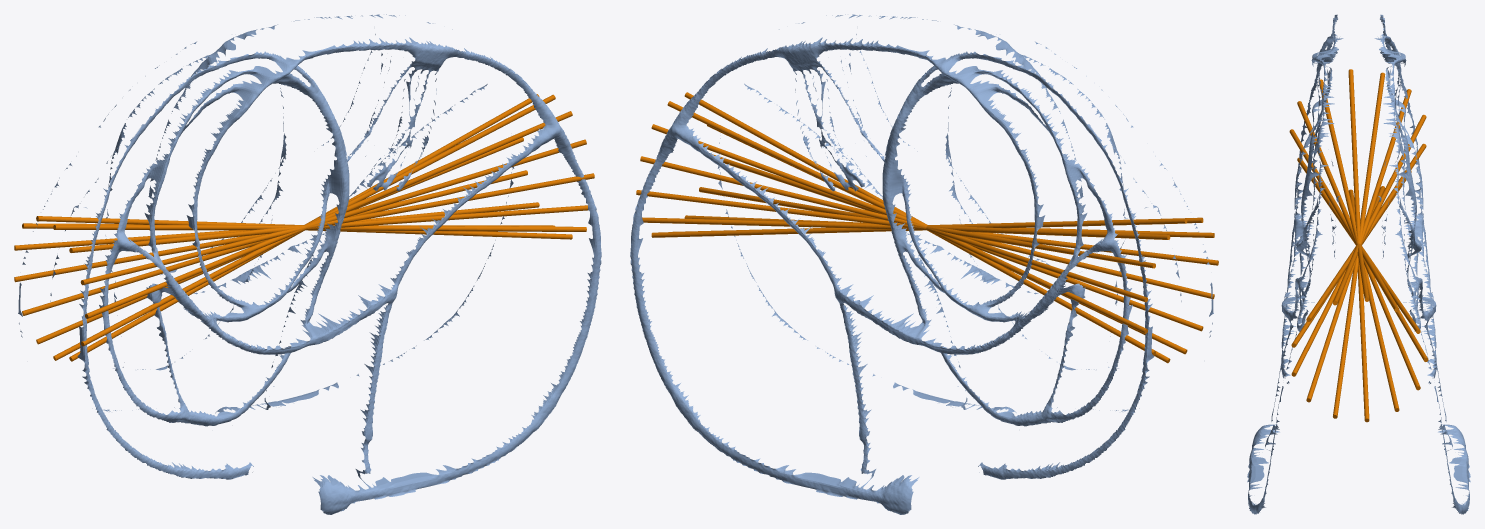
The model's file is A60023104_6150-37-520-3487_DigitalTwin.glb.
3 renders of one model, left to right at view 1: azimuth 30°, elevation 25°; view 2: azimuth 150°, elevation 25°; view 3: azimuth 270°, elevation 25°, orthographic. The views are drawn at different scales.
Visible parts, largest first — view 1: world; view 2: world; view 3: world.
Boxes of the visible parts, x1,y1,x2,y2 form: world: [14, 14, 601, 514]; world: [630, 14, 1218, 514]; world: [1247, 14, 1470, 514].
Bounding box in the file's own units: 453 × 374 × 187.
